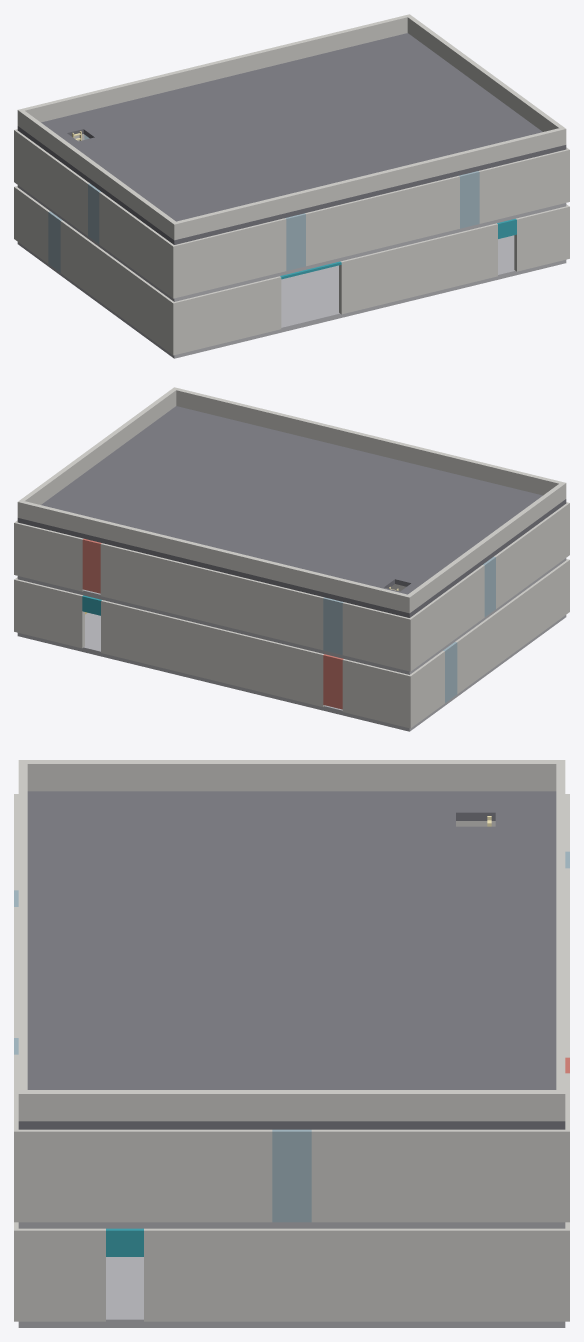
Rendered from auto_shop_a01.glb.
The picture shows the model from 3 angles, top to bottom: view 1: azimuth 30°, elevation 25°; view 2: azimuth 150°, elevation 25°; view 3: azimuth 270°, elevation 25°; orthographic projection. The views are drawn at different scales.
Parts seen in each view (by area): view 1: slab_2_t1_2, slab_2_t1_4, slab_2_t2_4, slab_2_t2_2, slab_2_t1_1, slab_2_t1_3, slab_2_t2_1, slab_2_t2_3, slab_2_t3_1, slab_2_t3_3, slab_2_t3_2, slab_2_t3_4 (+77 smaller); view 2: slab_2_t1_4, slab_2_t2_2, slab_2_t2_4, slab_2_t1_2, slab_2_t2_1, slab_2_t2_3, slab_2_t1_1, slab_2_t1_3, slab_2_t0_1, slab_2_t0_3, slab_2_t0_2, slab_2_t0_4 (+77 smaller); view 3: slab_2_t1_1, slab_2_t1_2, slab_2_t1_3, slab_2_t1_4, slab_2_t2_1, slab_2_t2_2, slab_2_t2_3, slab_2_t2_4, slab_2_t1_0, slab_2_t2_0, slab_2_t0_1, slab_2_t0_2 (+55 smaller).
Boxes of the visible parts, x1,y1,x2,y2 form: slab_2_t1_2: (227,135,330,179); slab_2_t1_4: (357,103,461,147); slab_2_t2_4: (318,74,422,118); slab_2_t2_2: (188,106,291,150); slab_2_t1_1: (161,151,265,195); slab_2_t1_3: (292,119,395,163); slab_2_t2_1: (122,122,226,166); slab_2_t2_3: (253,90,356,134); slab_2_t3_1: (86,95,186,138); slab_2_t3_3: (216,64,317,106); slab_2_t3_2: (151,80,252,122); slab_2_t3_4: (282,48,382,90); slab_2_t1_4: (161,447,265,491); slab_2_t2_2: (253,508,356,552); slab_2_t2_4: (122,476,226,520); slab_2_t1_2: (292,479,395,523); slab_2_t2_1: (318,524,422,568); slab_2_t2_3: (188,492,291,536); slab_2_t1_1: (357,495,461,539); slab_2_t1_3: (227,463,330,507); slab_2_t0_1: (397,468,497,511); slab_2_t0_3: (266,437,367,479); slab_2_t0_2: (331,453,432,495); slab_2_t0_4: (201,421,301,463); slab_2_t1_1: (155,843,291,898); slab_2_t1_2: (155,899,291,954); slab_2_t1_3: (155,954,291,1009); slab_2_t1_4: (155,1010,291,1065); slab_2_t2_1: (292,843,428,898); slab_2_t2_2: (292,899,428,954); slab_2_t2_3: (292,954,428,1009); slab_2_t2_4: (292,1010,428,1065); slab_2_t1_0: (155,791,291,843); slab_2_t2_0: (292,791,428,843); slab_2_t0_1: (27,843,155,898); slab_2_t0_2: (27,899,155,954).
Size of what is drawn, in the model's own units: 26.3 by 8.5 by 18.3.
